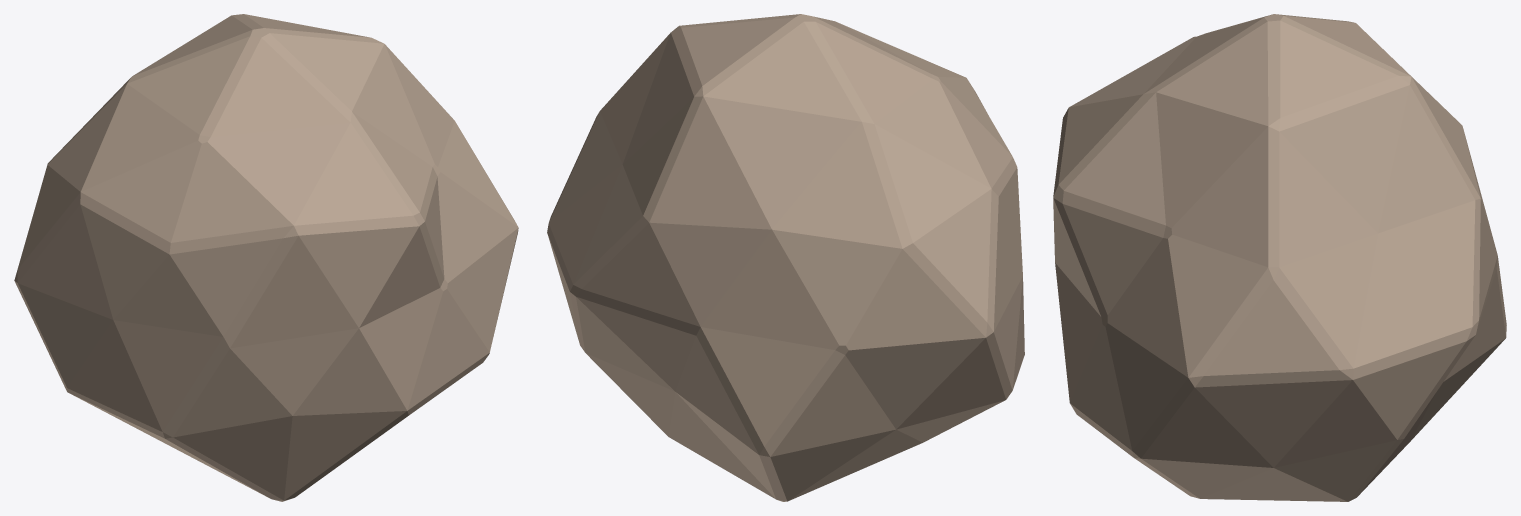
The model's file is Asteroid_M_C.fbx.
The picture shows the model from 3 angles, left to right: view 1: azimuth 30°, elevation 25°; view 2: azimuth 150°, elevation 25°; view 3: azimuth 270°, elevation 25°; orthographic projection. The views are drawn at different scales.
Visible parts, largest first — view 1: Asteroid_M_C; view 2: Asteroid_M_C; view 3: Asteroid_M_C.
Part boxes in pixels (bbox=[...]): Asteroid_M_C: bbox=[14, 14, 518, 501]; Asteroid_M_C: bbox=[547, 14, 1024, 501]; Asteroid_M_C: bbox=[1053, 14, 1506, 501].
Size of the model in its own units: 356 by 328 by 294.
